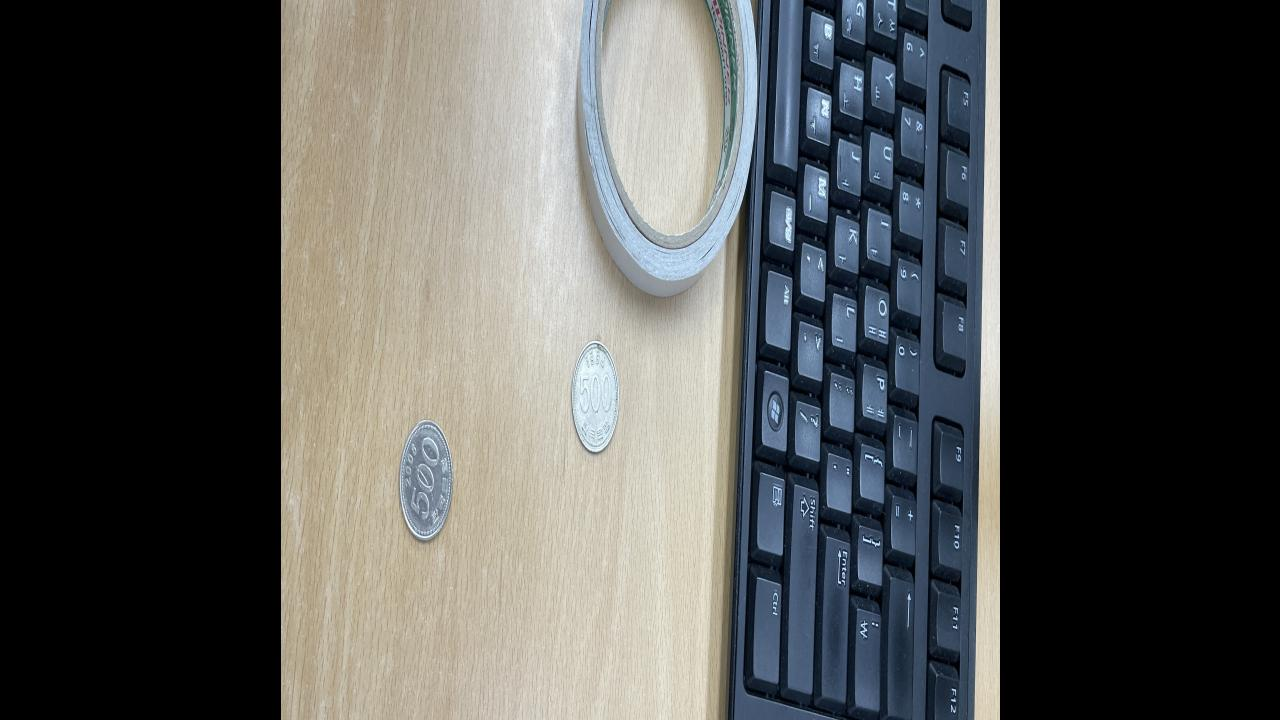coin: (398, 420, 452, 542), (572, 346, 616, 452)
